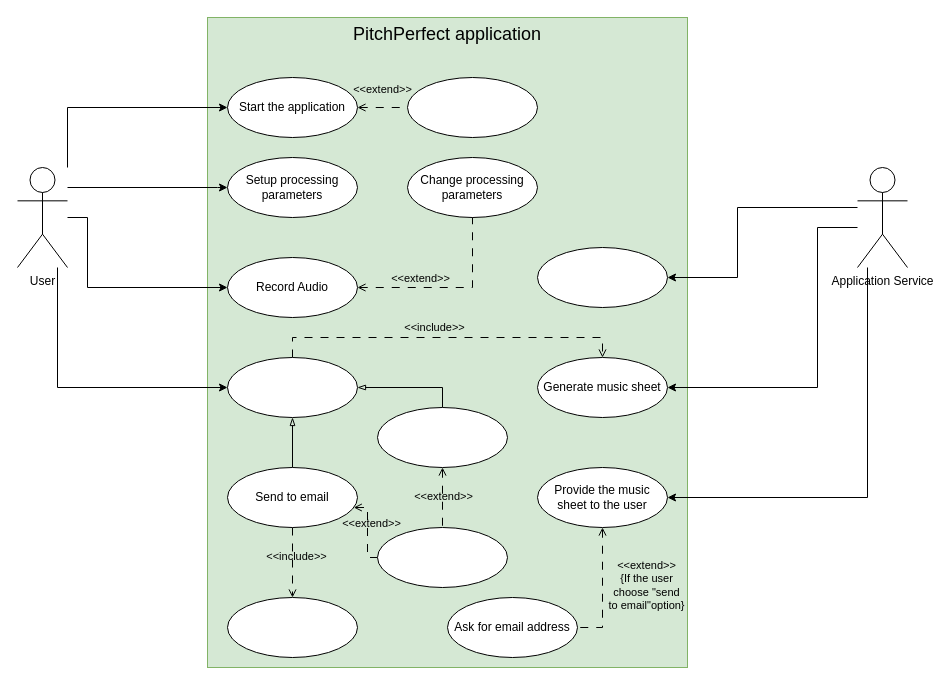
This 951x685 diagram has some shape labels left out. The shapes that lost their labels are listed below. From the top down, each one's box as (x1, y1, x2, y2) in pixels, then its label:
(406, 76, 538, 138): Read about the application
(536, 246, 668, 308): Process Audio
(226, 356, 358, 418): Export music sheet
(376, 406, 508, 468): Download
(376, 526, 508, 588): Give feedback
(226, 596, 358, 658): Input the email address
